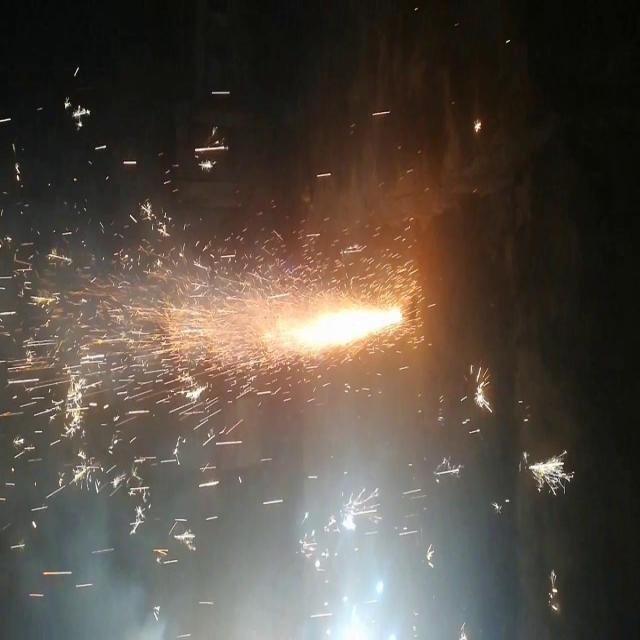fire: (196, 289, 407, 367)
